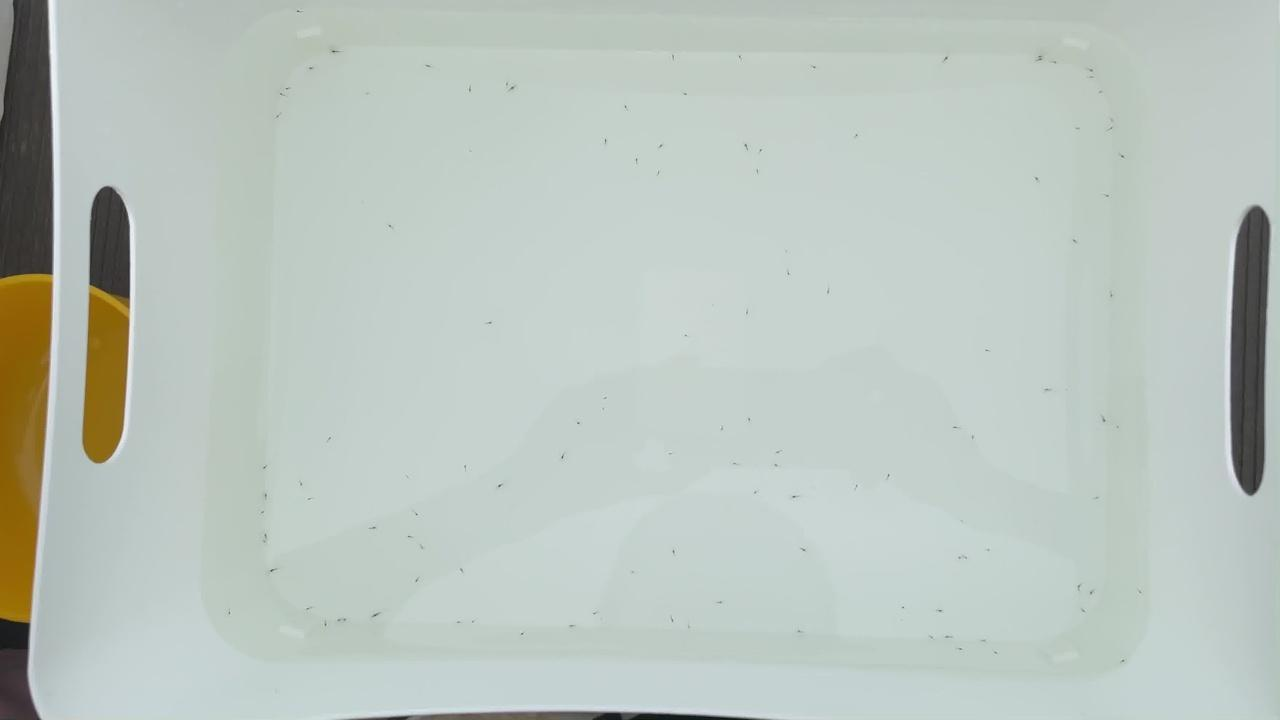shrimp: (292, 9, 304, 17), (330, 49, 342, 57), (307, 65, 319, 73), (283, 85, 295, 93), (276, 93, 288, 101), (273, 114, 285, 122), (363, 91, 375, 99), (423, 64, 435, 72), (465, 87, 477, 95), (501, 81, 513, 89), (505, 87, 517, 95), (385, 226, 397, 234), (465, 149, 477, 157), (483, 319, 495, 327), (598, 138, 610, 146), (619, 104, 631, 112), (665, 52, 677, 60), (678, 91, 690, 99), (656, 141, 668, 149), (653, 170, 665, 178), (631, 159, 643, 167), (739, 143, 751, 151), (753, 167, 765, 175), (756, 148, 768, 156), (733, 54, 745, 62), (810, 67, 822, 75), (850, 132, 862, 140), (940, 54, 952, 62), (1034, 52, 1046, 60), (1034, 55, 1046, 63), (1048, 59, 1060, 67), (1082, 67, 1094, 75), (1086, 74, 1098, 82), (1096, 89, 1108, 97), (1105, 114, 1117, 122), (1103, 125, 1115, 133), (1117, 153, 1129, 161), (1071, 126, 1083, 134), (1032, 176, 1044, 184), (1102, 195, 1114, 203), (1070, 240, 1082, 248), (1106, 291, 1118, 299), (981, 344, 993, 352), (823, 290, 835, 298), (784, 271, 796, 279), (744, 309, 756, 317), (679, 335, 691, 343), (1043, 385, 1055, 393), (1098, 418, 1110, 426), (1112, 425, 1124, 433), (968, 433, 980, 441), (953, 425, 965, 433), (884, 473, 896, 481), (957, 520, 969, 528), (986, 547, 998, 555), (962, 554, 974, 562), (954, 555, 966, 563), (1091, 494, 1103, 502), (1070, 583, 1082, 591), (1086, 592, 1098, 600), (1078, 606, 1090, 614), (1138, 590, 1150, 598), (1117, 658, 1129, 666), (990, 649, 1002, 657), (979, 637, 991, 645), (956, 646, 968, 654), (943, 635, 955, 643), (927, 634, 939, 642), (937, 607, 949, 615), (897, 604, 909, 612), (797, 630, 809, 638), (715, 601, 727, 609), (684, 626, 696, 634), (669, 616, 681, 624), (628, 571, 640, 579), (669, 549, 681, 557), (798, 546, 810, 554), (850, 484, 862, 492), (789, 492, 801, 500), (749, 489, 761, 497), (770, 464, 782, 472), (771, 449, 783, 457), (745, 416, 757, 424), (718, 424, 730, 432), (730, 462, 742, 470), (666, 451, 678, 459), (600, 396, 612, 404), (598, 406, 610, 414), (574, 420, 586, 428), (557, 454, 569, 462), (494, 485, 506, 493), (461, 464, 473, 472), (325, 434, 337, 442), (260, 463, 272, 471), (294, 481, 306, 489), (306, 497, 318, 505), (262, 493, 274, 501), (259, 508, 271, 516), (261, 532, 273, 540), (259, 538, 271, 546), (265, 566, 277, 574), (224, 609, 236, 617), (301, 605, 313, 613), (318, 621, 330, 629), (333, 616, 345, 624), (339, 616, 351, 624), (370, 612, 382, 620), (452, 619, 464, 627), (466, 620, 478, 628), (515, 630, 527, 638), (565, 623, 577, 631), (588, 609, 600, 617), (453, 566, 465, 574), (413, 578, 425, 586), (415, 544, 427, 552), (405, 533, 417, 541), (411, 511, 423, 519), (372, 523, 384, 531)
